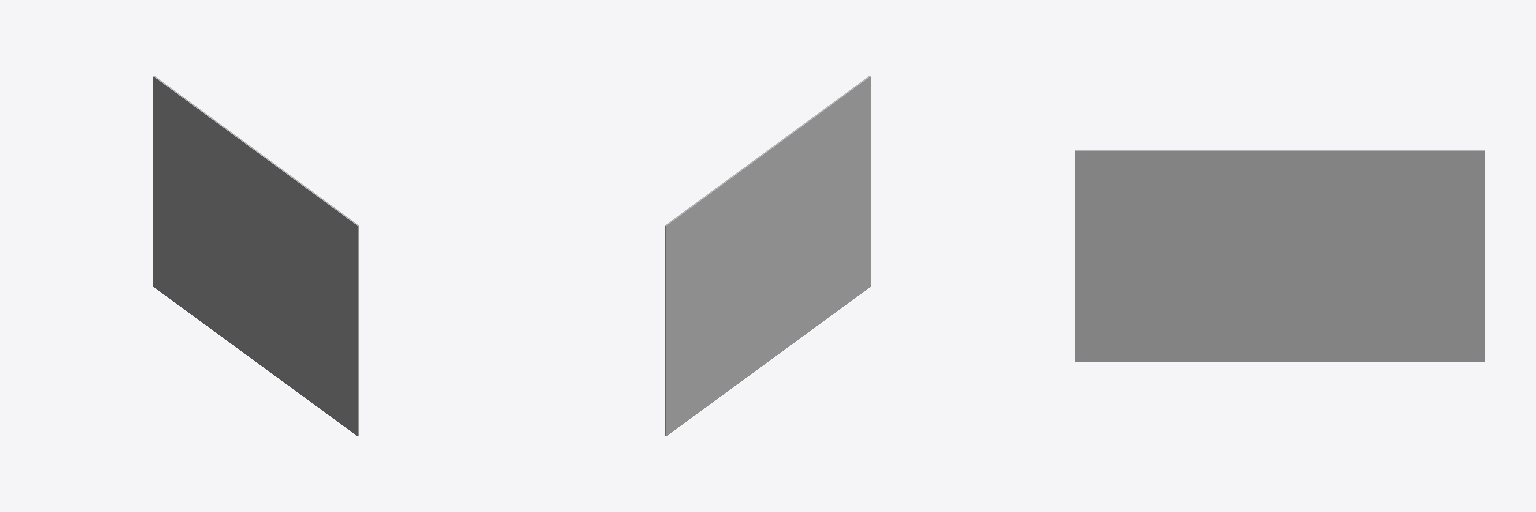
The model's file is map.obj.
The picture shows the model from 3 angles: view 1: azimuth 30°, elevation 25°; view 2: azimuth 150°, elevation 25°; view 3: azimuth 270°, elevation 25°; orthographic projection.
Parts seen in each view (by area): view 1: Cube; view 2: Cube; view 3: Cube.
Part boxes in pixels (x1,y1,x2,y2): Cube: (153,76,358,435); Cube: (665,76,870,435); Cube: (1075,150,1484,361).
Size of the model in its own units: 0.0158 by 2.05 by 3.63.